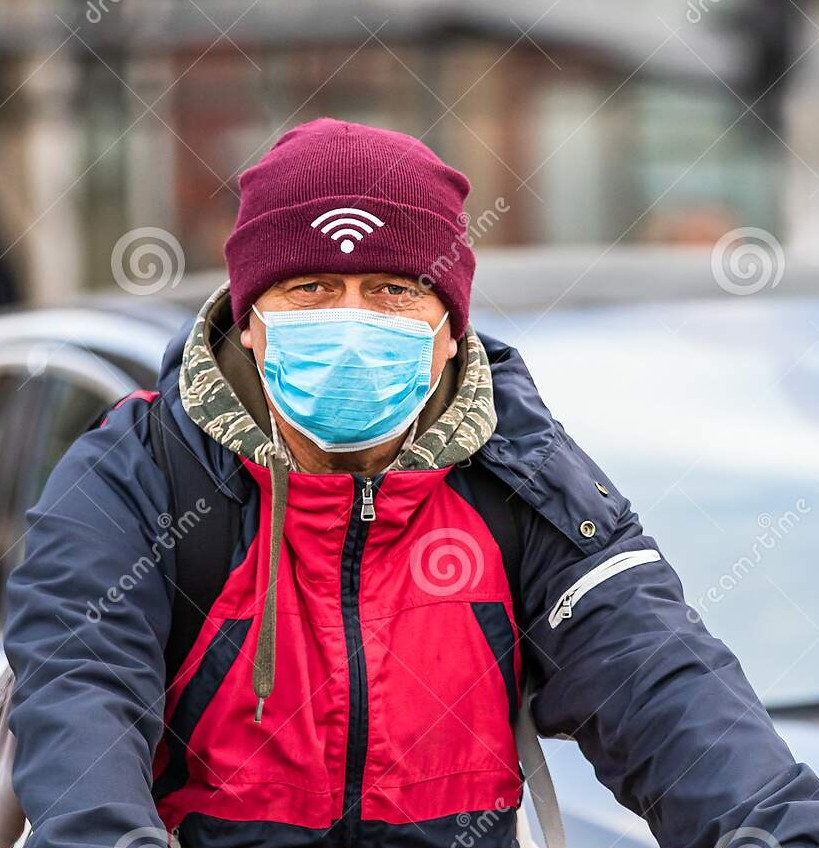with_mask: (206, 163, 519, 483)
